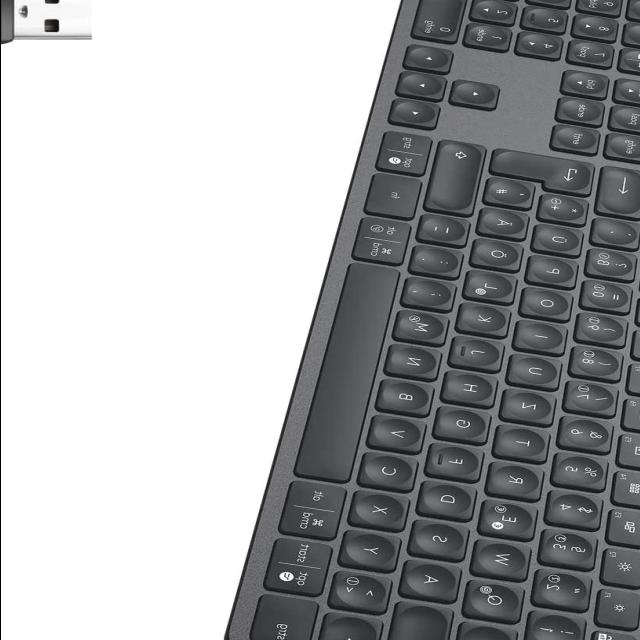0: (585, 282, 637, 316)
1: (531, 614, 589, 640)
2: (537, 571, 596, 613)
3: (542, 530, 601, 572)
4: (551, 495, 607, 532)
5: (556, 456, 612, 493)
6: (563, 419, 617, 455)
7: (568, 383, 622, 418)
8: (573, 347, 627, 382)
9: (579, 315, 631, 349)
a: (406, 562, 465, 604)
accent: (596, 221, 640, 253)
ae: (482, 211, 534, 243)
alt-left: (262, 539, 334, 597)
altgr-right: (358, 217, 414, 265)
b: (381, 381, 437, 419)
c: (363, 455, 421, 494)
caret: (524, 624, 582, 640)
comma: (406, 280, 460, 314)
d: (421, 483, 480, 522)
del: (600, 170, 640, 220)
e: (482, 501, 541, 543)
enter: (497, 153, 599, 199)
f: (429, 445, 487, 483)
g: (438, 408, 494, 446)
h: (446, 373, 502, 409)
hash: (487, 180, 539, 212)
i: (519, 324, 571, 357)
j: (453, 339, 509, 374)
k: (461, 305, 515, 339)
keyboard: (216, 0, 640, 640)
l: (467, 273, 521, 306)
less: (334, 573, 396, 615)
m: (397, 312, 453, 348)
minus: (423, 217, 473, 250)
n: (390, 346, 446, 383)
o: (523, 290, 577, 324)
oe: (474, 241, 528, 274)
p: (530, 257, 582, 289)
plus: (542, 195, 594, 228)
point: (414, 249, 466, 281)
q: (467, 581, 528, 625)
r: (490, 464, 548, 502)
s: (414, 522, 472, 563)
shift-left: (321, 615, 382, 640)
shift-lock: (387, 605, 453, 640)
shift-right: (430, 143, 489, 217)
space: (298, 267, 402, 485)
ss: (590, 250, 640, 284)
strg-left: (253, 595, 322, 640)
strg-right: (380, 132, 436, 176)
t: (498, 427, 554, 464)
tab: (455, 613, 519, 640)
u: (511, 357, 567, 392)
ue: (536, 227, 588, 259)
v: (373, 417, 429, 456)
w: (477, 543, 535, 582)
x: (355, 492, 413, 532)
y: (345, 532, 404, 573)
z: (504, 390, 560, 427)
